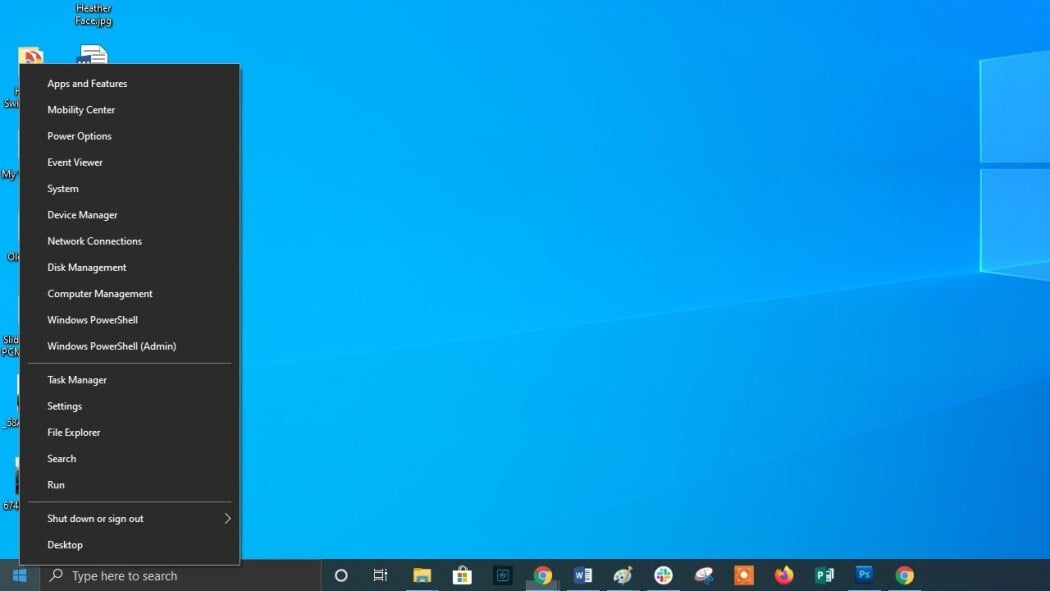search_box: (47, 565, 323, 591)
start_bar: (10, 563, 29, 585)
